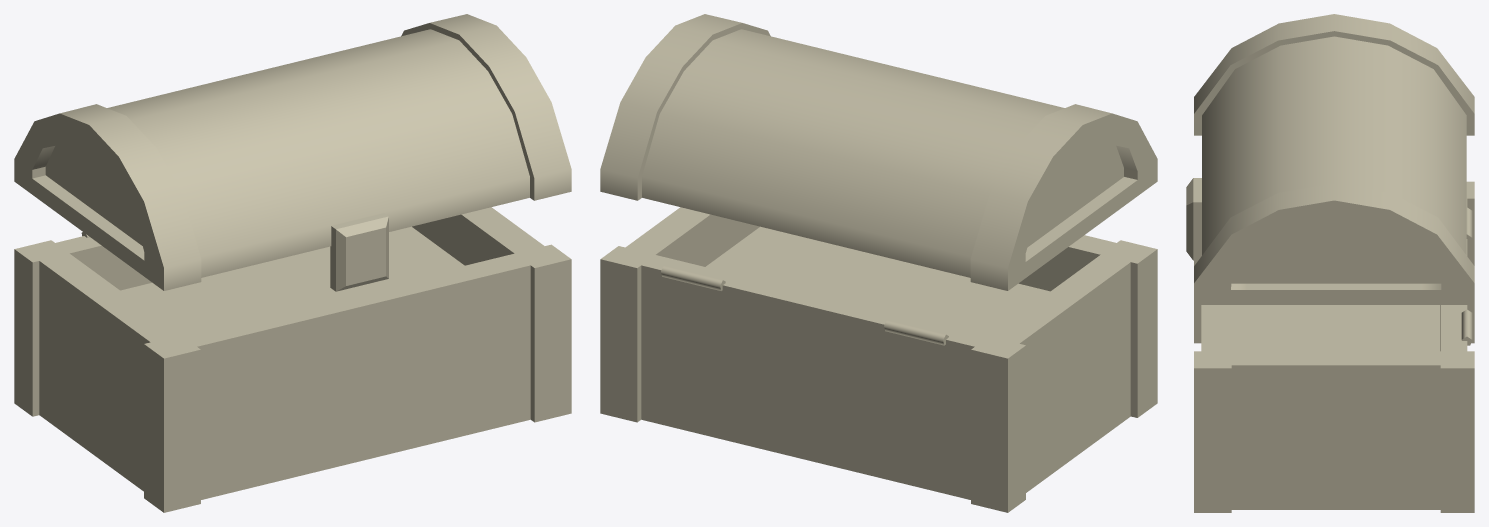
File: Chest.fbx
The picture shows the model from 3 angles, left to right: view 1: azimuth 30°, elevation 25°; view 2: azimuth 150°, elevation 25°; view 3: azimuth 270°, elevation 25°; orthographic projection. The views are drawn at different scales.
Visible parts, largest first — view 1: Chest_Bottom, Chest_Top; view 2: Chest_Bottom, Chest_Top; view 3: Chest_Top, Chest_Bottom.
Part boxes in pixels (<box>): Chest_Bottom: <box>14,207,571,512</box>; Chest_Top: <box>14,14,571,291</box>; Chest_Bottom: <box>600,207,1157,512</box>; Chest_Top: <box>600,14,1157,290</box>; Chest_Top: <box>1186,14,1474,304</box>; Chest_Bottom: <box>1194,181,1474,512</box>.
Bounding box in the file's own units: 1.03 × 0.8081 × 0.6756.
